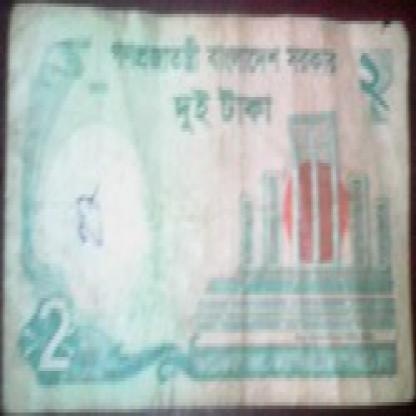two taka: (30, 298, 83, 378), (353, 38, 389, 135)
